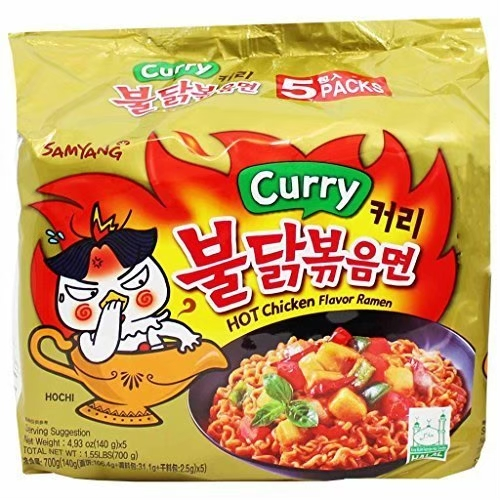Snack: (4, 14, 500, 489)
